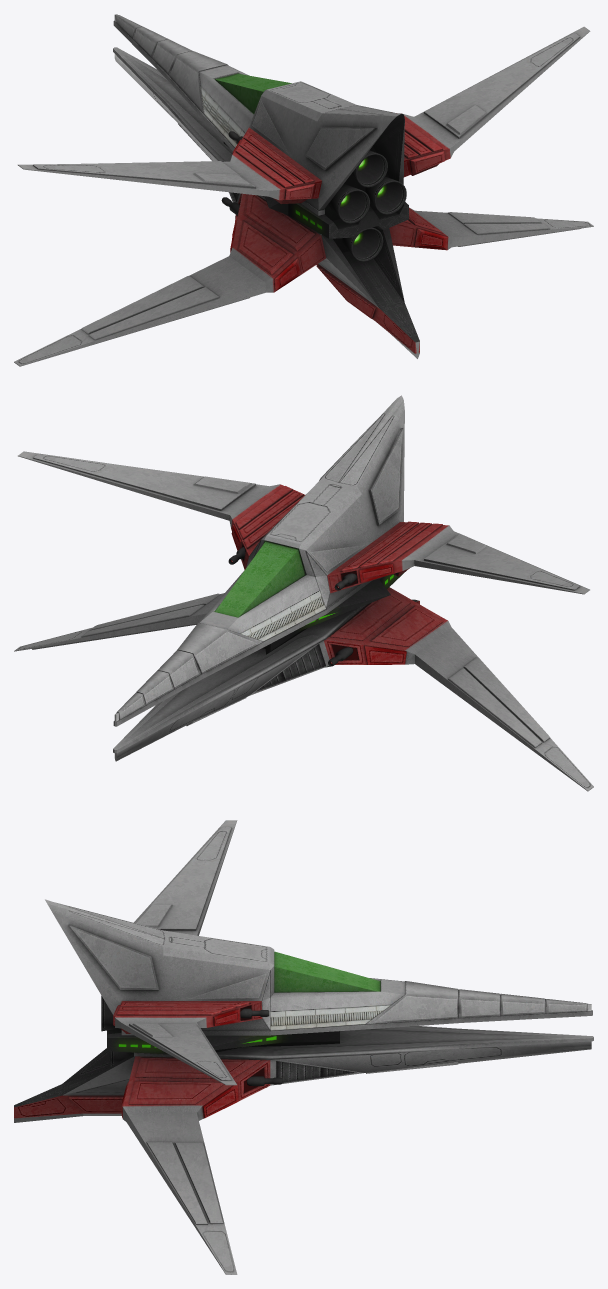
Rendered from wolfen.glb.
3 views of the same model, one above another, from view 1: azimuth 30°, elevation 25°; view 2: azimuth 150°, elevation 25°; view 3: azimuth 270°, elevation 25° (orthographic). The views are drawn at different scales.
Parts seen in each view (by area): view 1: detail_0; view 2: detail_0; view 3: detail_0.
Boxes of the visible parts, box(x1,y1,x2,y2) form: detail_0: box(14, 14, 593, 366); detail_0: box(14, 395, 593, 791); detail_0: box(14, 820, 593, 1274).
Size of the model in its own units: 39.56 by 16.63 by 36.21.
1 material, 1 textured.
